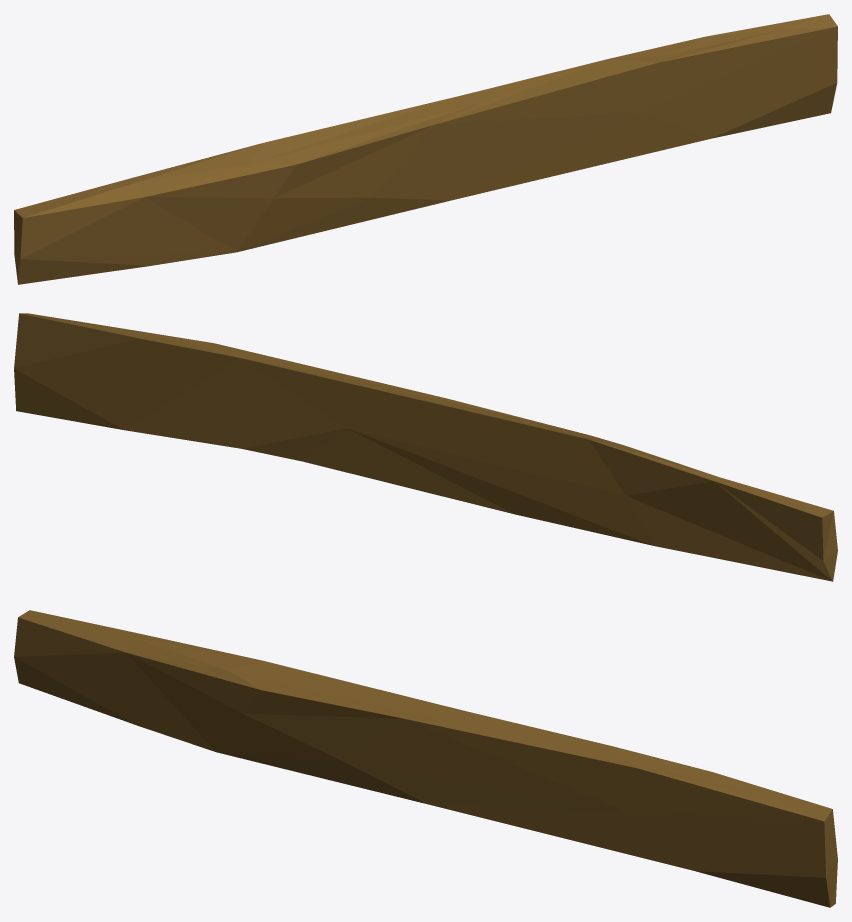
Rendered from Prototype Plank 01.FBX.
The picture shows the model from 3 angles, top to bottom: view 1: azimuth 30°, elevation 25°; view 2: azimuth 150°, elevation 25°; view 3: azimuth 330°, elevation 25°; orthographic projection.
Parts seen in each view (by area): view 1: Prototype Plank 02; view 2: Prototype Plank 02; view 3: Prototype Plank 02.
Part boxes in pixels (x1=…): Prototype Plank 02: x1=14, y1=14, x2=837, y2=284; Prototype Plank 02: x1=14, y1=313, x2=837, y2=581; Prototype Plank 02: x1=14, y1=610, x2=837, y2=907.
Bounding box in the file's own units: 98.34 × 5.29 × 12.5.
